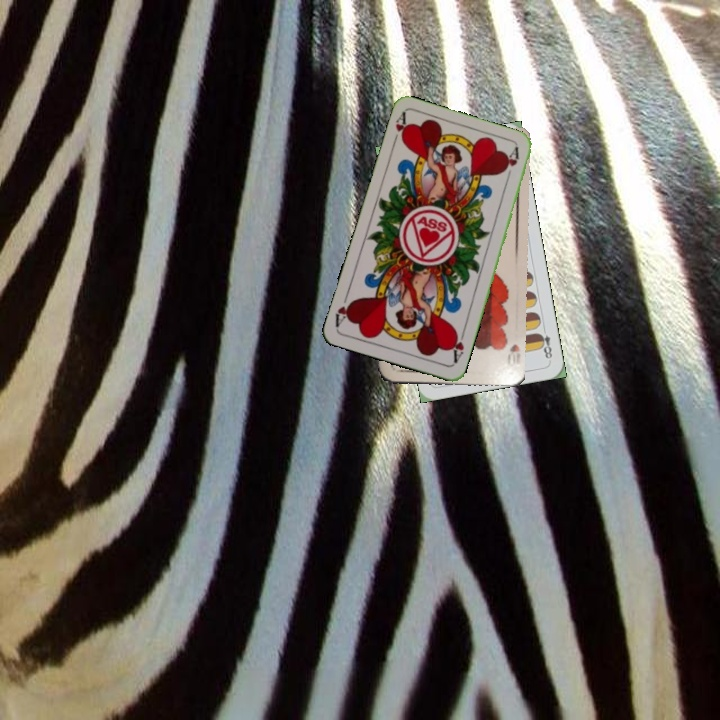E8: (534, 323, 555, 361)
H10: (504, 340, 522, 369)
HA: (388, 109, 411, 149), (447, 326, 468, 366)
